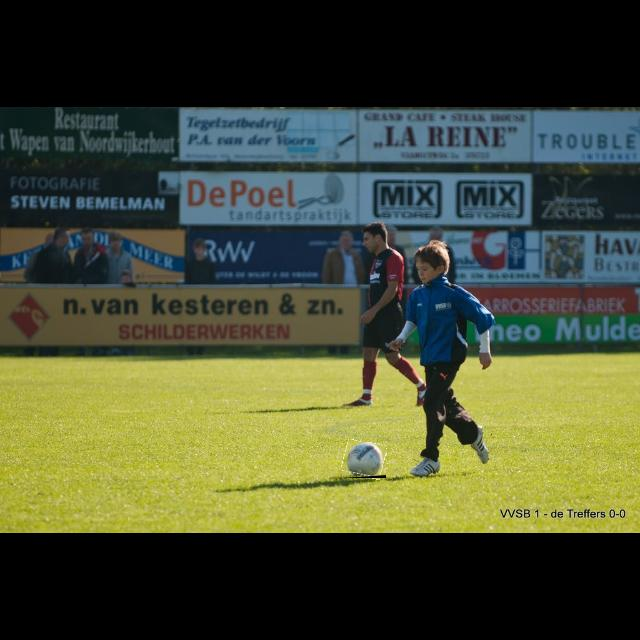Football: (342, 442, 386, 478)
